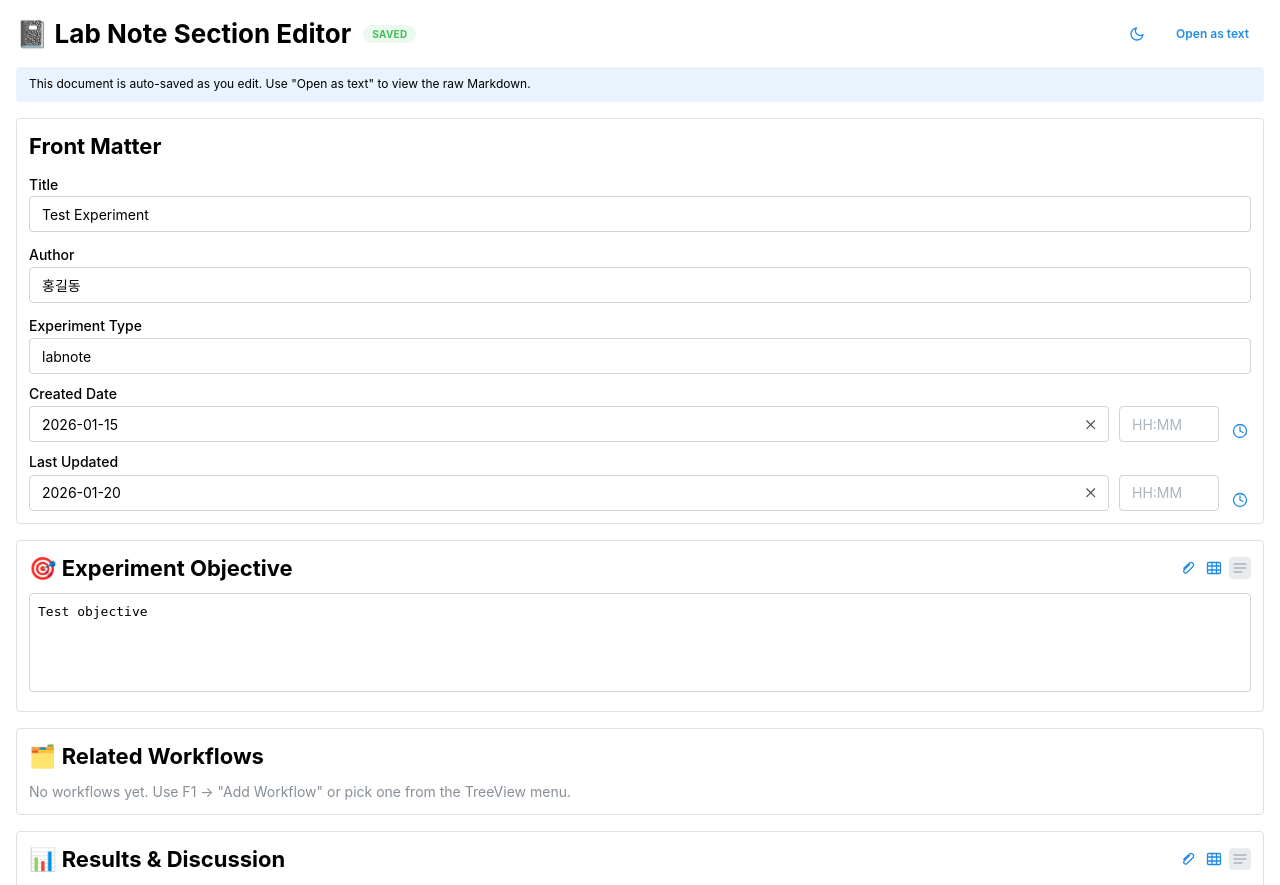
it: App › inserts textInserted into the focused labnote section using current content
Focus the text box below "🎯 Experiment Objective": point(640, 643) [29,594,1251,692]
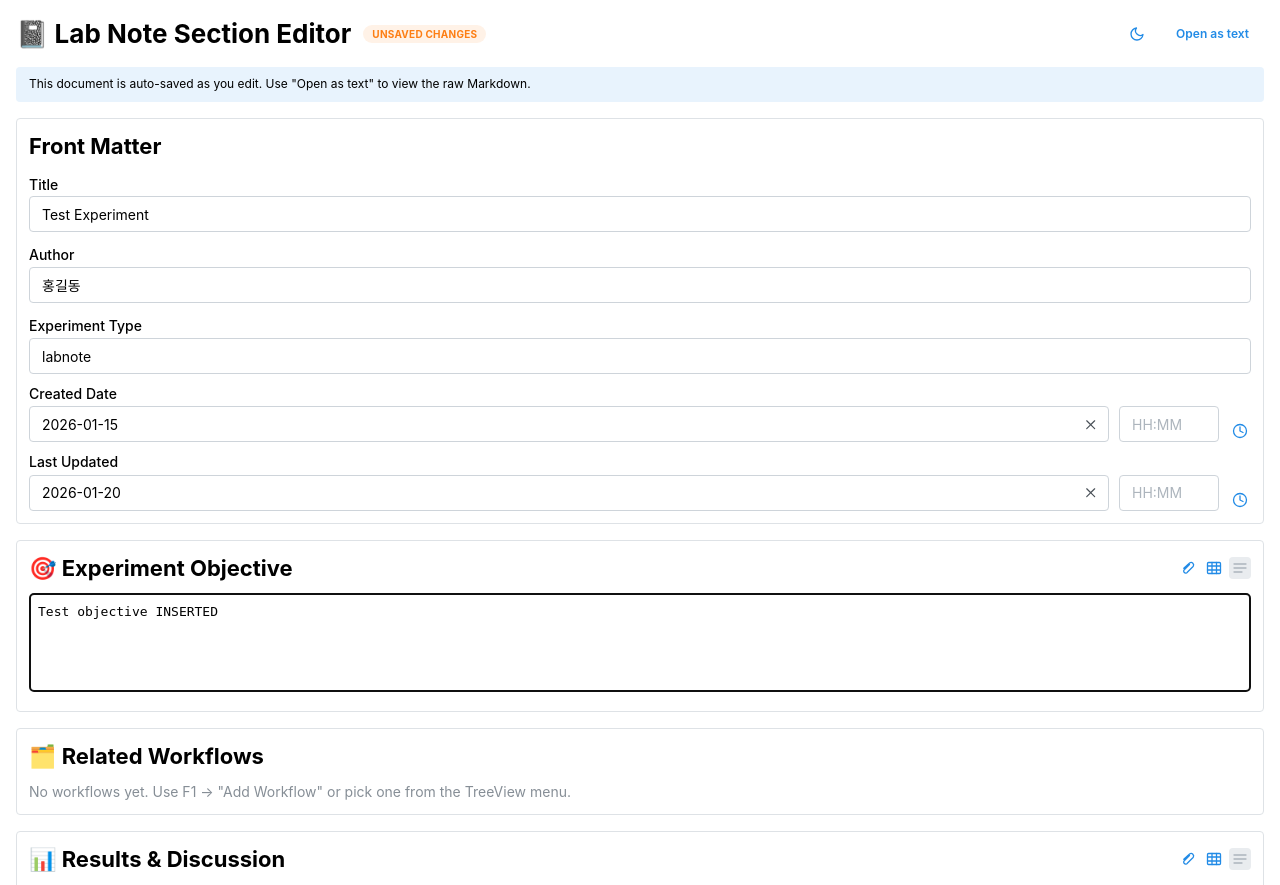
Check: the text box below "🎯 Experiment Objective" holds "Test objective INSERTED", box [29,594,1251,692]
